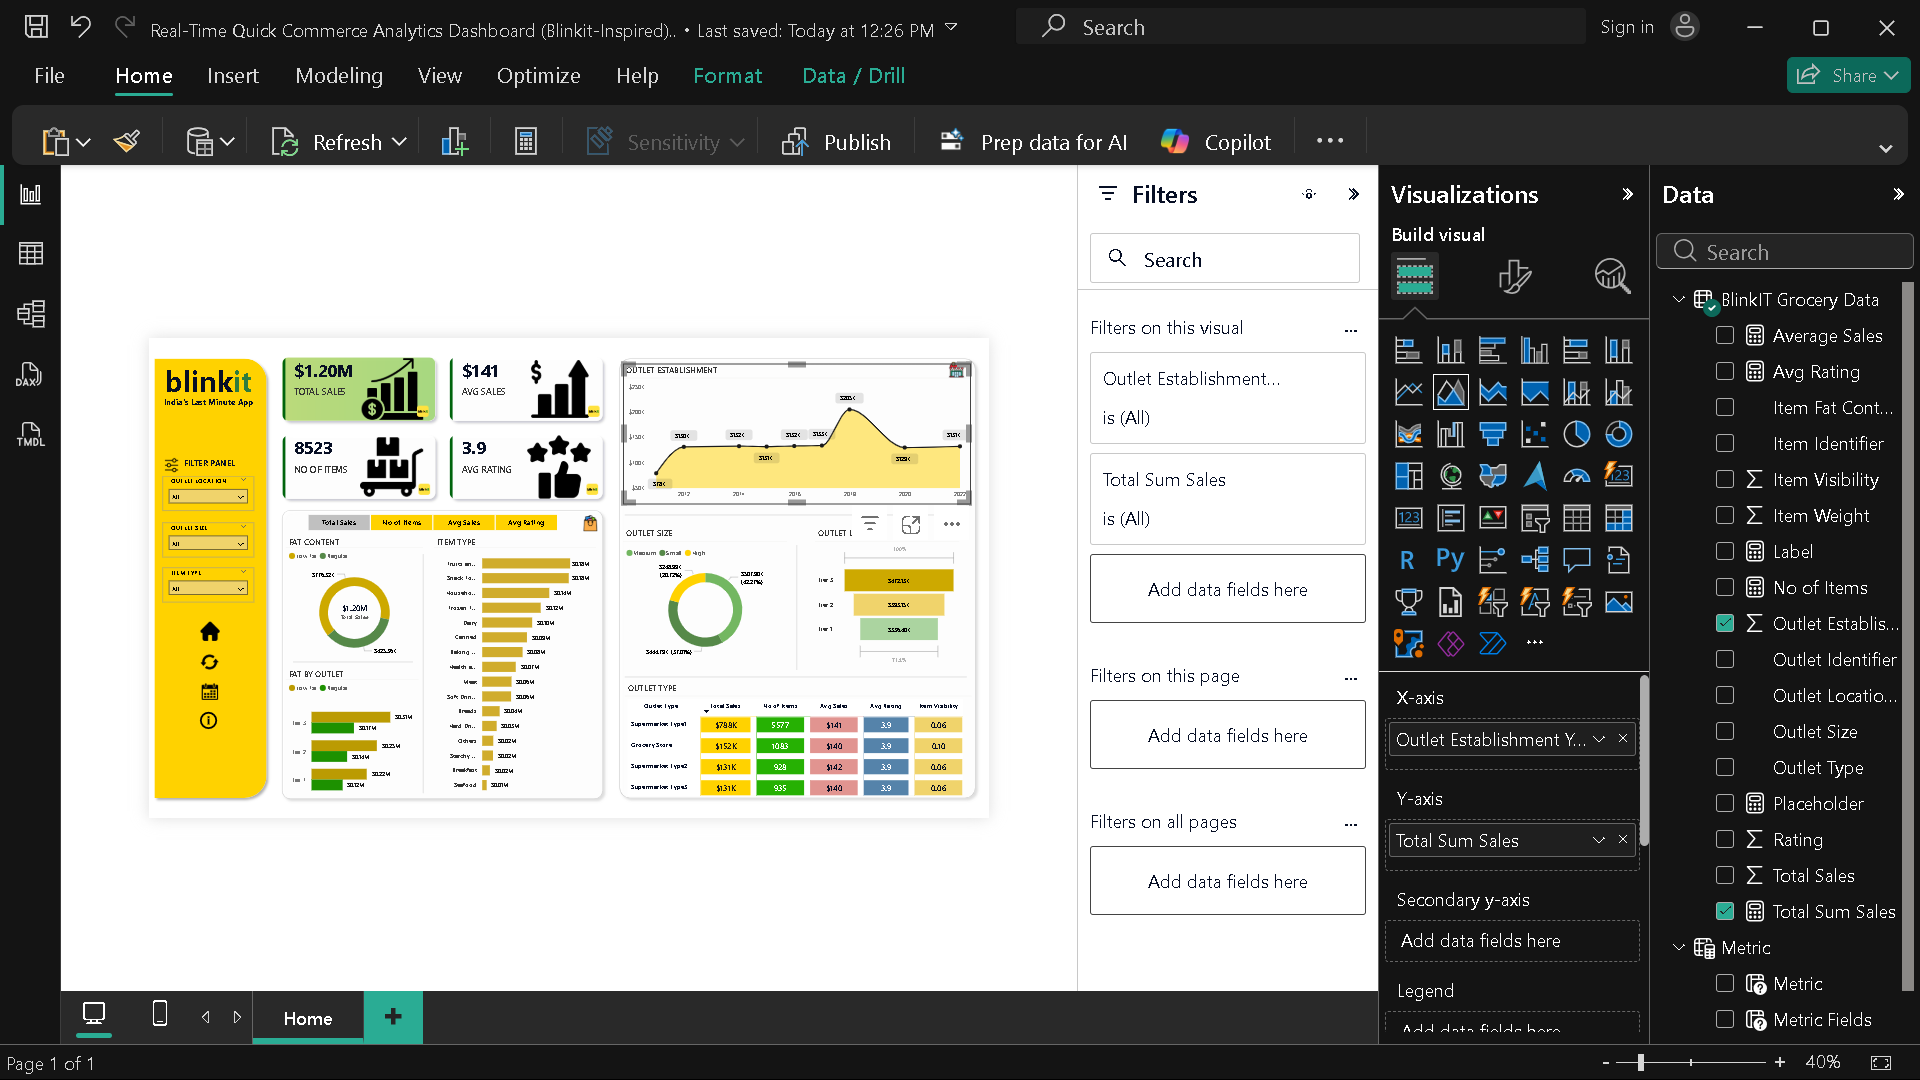

This screenshot's page, from the dashboard's own definition file:
{"tool":"powerbi","page":{"name":"Home","canvas":[1400,800],"ordinal":0},"visuals":[{"type":"shape","box":[0,25.3,205,750.7],"z":0},{"type":"textbox","box":[0,33,198.1,82.1],"z":1000},{"type":"cardVisual","fields":{"Data":["BlinkIT Grocery Data.Total Sum Sales","BlinkIT Grocery Data.Average Sales","BlinkIT Grocery Data.No of Items","BlinkIT Grocery Data.Avg Rating"]},"box":[204.8,15.8,569.7,270.8],"z":2000},{"type":"image","box":[71.4,466.3,58.7,42.6],"z":3000},{"type":"image","box":[74.4,521.1,52.1,39.7],"z":4000},{"type":"image","box":[81.8,568.8,38,39.1],"z":5000},{"type":"shape","box":[774.5,25.5,611.7,751.1],"z":6000},{"type":"areaChart","title":"OUTLET ESTABLISHMENT","fields":{"Y":["BlinkIT Grocery Data.Total Sum Sales"],"Category":["BlinkIT Grocery Data.Outlet Establishment Year2"]},"box":[790.6,42.5,578.3,234],"z":7000},{"type":"textbox","box":[0,89.6,198.1,34],"z":8000},{"type":"donutChart","title":"OUTLET SIZE","fields":{"Category":["BlinkIT Grocery Data.Outlet Size"],"Y":["BlinkIT Grocery Data.Total Sum Sales"]},"box":[790.6,316,273.6,224.5],"z":9000},{"type":"funnel","title":"OUTLET LOCATION","fields":{"Category":["BlinkIT Grocery Data.Outlet Location Type"],"Y":["BlinkIT Grocery Data.Total Sum Sales"]},"box":[1110.4,316,240.6,234],"z":10000},{"type":"pivotTable","title":"OUTLET TYPE","fields":{"Rows":["BlinkIT Grocery Data.Outlet Type"],"Values":["BlinkIT Grocery Data.Total Sum Sales","BlinkIT Grocery Data.No of Items","BlinkIT Grocery Data.Average Sales","BlinkIT Grocery Data.Avg Rating","Avg(BlinkIT Grocery Data.Item Visibility)"]},"box":[793.6,572.3,578.7,197.1],"z":11000},{"type":"shape","box":[793.4,284.9,570.8,19.8],"z":12000},{"type":"shape","box":[1064.2,346.2,29.2,208.5],"z":13000},{"type":"shape","box":[212.8,276.6,553.2,500],"z":14000},{"type":"donutChart","title":"FAT CONTENT","fields":{"Y":["BlinkIT Grocery Data.No of Items"],"Category":["BlinkIT Grocery Data.Item Fat Content"]},"box":[228.3,330.2,229.2,213.2],"z":15000},{"type":"shape","box":[793.4,553.8,570.8,19.8],"z":16000},{"type":"cardVisual","fields":{"Data":["BlinkIT Grocery Data.No of Items"]},"box":[291.9,428.1,102,54.5],"z":17000},{"type":"slicer","fields":{"Values":["Metric.Metric"]},"box":[240,287.5,464.2,39.6],"z":18000},{"type":"barChart","title":"ITEM TYPE","fields":{"Y":["BlinkIT Grocery Data.No of Items"],"Category":["BlinkIT Grocery Data.Item Type"]},"box":[475.3,330.2,269.8,438.1],"z":19000},{"type":"shape","box":[442.5,360.4,29.2,399.1],"z":20000},{"type":"clusteredBarChart","title":"FAT BY OUTLET","fields":{"Y":["BlinkIT Grocery Data.No of Items"],"Category":["BlinkIT Grocery Data.Outlet Location Type"],"Series":["BlinkIT Grocery Data.Item Fat Content"]},"box":[228.3,550.9,221.7,229.2],"z":21000},{"type":"shape","box":[239.6,529.2,200,19.8],"z":22000},{"type":"image","box":[725.5,108.5,33,29.2],"z":23000},{"type":"image","box":[723.6,237.7,33,29.2],"z":24000},{"type":"image","box":[442.5,237.7,33,29.2],"z":25000},{"type":"image","box":[440.6,108.5,33,29.2],"z":26000},{"type":"image","box":[715.6,289.2,41.3,36.9],"z":27000},{"type":"image","box":[1327.5,33.4,36,40.4],"z":28000},{"type":"slicer","fields":{"Values":["BlinkIT Grocery Data.Outlet Location Type"]},"box":[23.7,231.2,153,58],"z":29000},{"type":"slicer","fields":{"Values":["BlinkIT Grocery Data.Outlet Size"]},"box":[23.7,307.7,153,58],"z":30000},{"type":"slicer","fields":{"Values":["BlinkIT Grocery Data.Item Type"]},"box":[23.7,382.4,153,58],"z":31000},{"type":"textbox","box":[36.8,193.4,126.4,31.1],"z":32000},{"type":"image","box":[18.9,184,34.9,53.8],"z":33000},{"type":"actionButton","box":[80.6,616.6,38.5,39.7],"z":38000}]}

Visuals, with their boxes on the page's 1400x800 design canvas (x1, y1, x2, y2). These are canvas units, not pixel positions in the 1920x1080 screenshot, which may show the page scaled, cropped or inside an application window:
shape: <bbox>0, 25, 205, 776</bbox>
textbox: <bbox>0, 33, 198, 115</bbox>
cardVisual - BlinkIT Grocery Data.Total Sum Sales x BlinkIT Grocery Data.Average Sales: <bbox>205, 16, 774, 287</bbox>
image: <bbox>71, 466, 130, 509</bbox>
image: <bbox>74, 521, 126, 561</bbox>
image: <bbox>82, 569, 120, 608</bbox>
shape: <bbox>774, 26, 1386, 777</bbox>
"OUTLET ESTABLISHMENT" areaChart: <bbox>791, 42, 1369, 276</bbox>
textbox: <bbox>0, 90, 198, 124</bbox>
"OUTLET SIZE" donutChart: <bbox>791, 316, 1064, 540</bbox>
"OUTLET LOCATION" funnel: <bbox>1110, 316, 1351, 550</bbox>
"OUTLET TYPE" pivotTable: <bbox>794, 572, 1372, 769</bbox>
shape: <bbox>793, 285, 1364, 305</bbox>
shape: <bbox>1064, 346, 1093, 555</bbox>
shape: <bbox>213, 277, 766, 777</bbox>
"FAT CONTENT" donutChart: <bbox>228, 330, 458, 543</bbox>
shape: <bbox>793, 554, 1364, 574</bbox>
cardVisual - BlinkIT Grocery Data.No of Items: <bbox>292, 428, 394, 483</bbox>
slicer - Metric.Metric: <bbox>240, 288, 704, 327</bbox>
"ITEM TYPE" barChart: <bbox>475, 330, 745, 768</bbox>
shape: <bbox>442, 360, 472, 760</bbox>
"FAT BY OUTLET" clusteredBarChart: <bbox>228, 551, 450, 780</bbox>
shape: <bbox>240, 529, 440, 549</bbox>
image: <bbox>726, 108, 758, 138</bbox>
image: <bbox>724, 238, 757, 267</bbox>
image: <bbox>442, 238, 476, 267</bbox>
image: <bbox>441, 108, 474, 138</bbox>
image: <bbox>716, 289, 757, 326</bbox>
image: <bbox>1328, 33, 1364, 74</bbox>
slicer - BlinkIT Grocery Data.Outlet Location Type: <bbox>24, 231, 177, 289</bbox>
slicer - BlinkIT Grocery Data.Outlet Size: <bbox>24, 308, 177, 366</bbox>
slicer - BlinkIT Grocery Data.Item Type: <bbox>24, 382, 177, 440</bbox>
textbox: <bbox>37, 193, 163, 224</bbox>
image: <bbox>19, 184, 54, 238</bbox>
actionButton: <bbox>81, 617, 119, 656</bbox>
